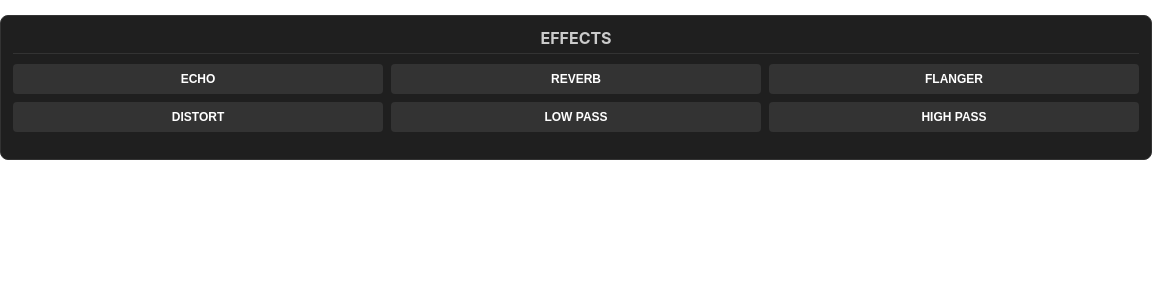
Test: AudioEffects Component › shows controls when an effect is activated
// Click on ECHO effect button
Click the button "ECHO": (198, 79) left=13, top=64, right=383, bottom=94
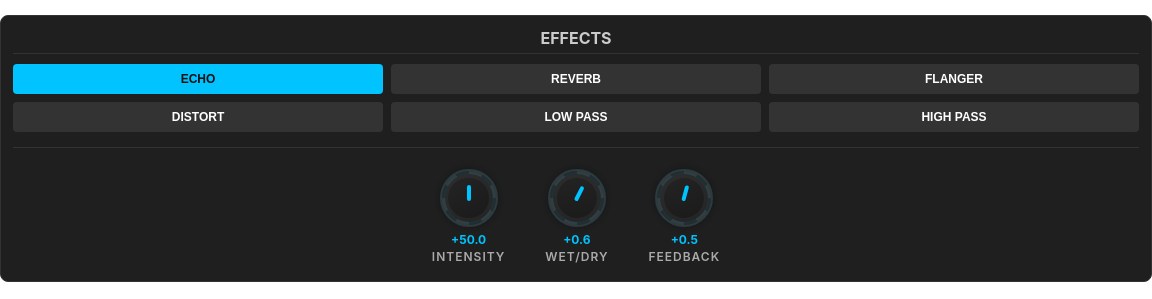
Expected: the text "INTENSITY" is shown, left=432, top=249, right=505, bottom=264
Expected: the text "WET/DRY" is shown, left=545, top=249, right=608, bottom=264
Expected: the text "FEEDBACK" is shown, left=648, top=249, right=720, bottom=264
